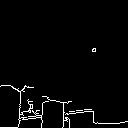cube: (86, 39, 102, 59)
